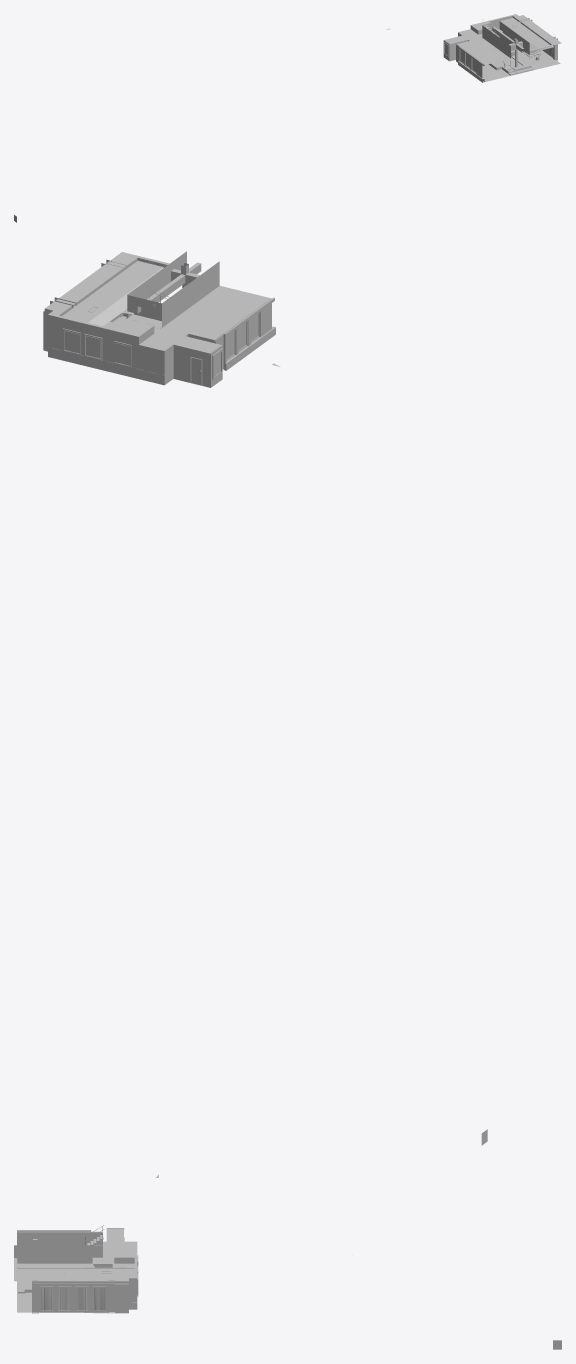
The model's file is room_03_kitchen.fbx.
3 views of the same model, one above another, from view 1: azimuth 30°, elevation 25°; view 2: azimuth 150°, elevation 25°; view 3: azimuth 270°, elevation 25° (orthographic). The views are drawn at different scales.
Visible parts, largest first — view 1: walls, floor_reflective, bench_long; view 2: walls; view 3: walls, room_03_lounge_curtains_grass_zfight_fix, floor_reflective.
Boxes of the visible parts, x1,y1,x2,y2 form: walls: [443, 14, 561, 82]; floor_reflective: [483, 50, 560, 81]; bench_long: [489, 55, 533, 75]; walls: [43, 251, 275, 387]; walls: [14, 1228, 138, 1313]; room_03_lounge_curtains_grass_zfight_fix: [31, 1174, 158, 1312]; floor_reflective: [17, 1281, 115, 1313].
Size of what is drawn, in the model's own units: 6075 by 3767 by 5297.
